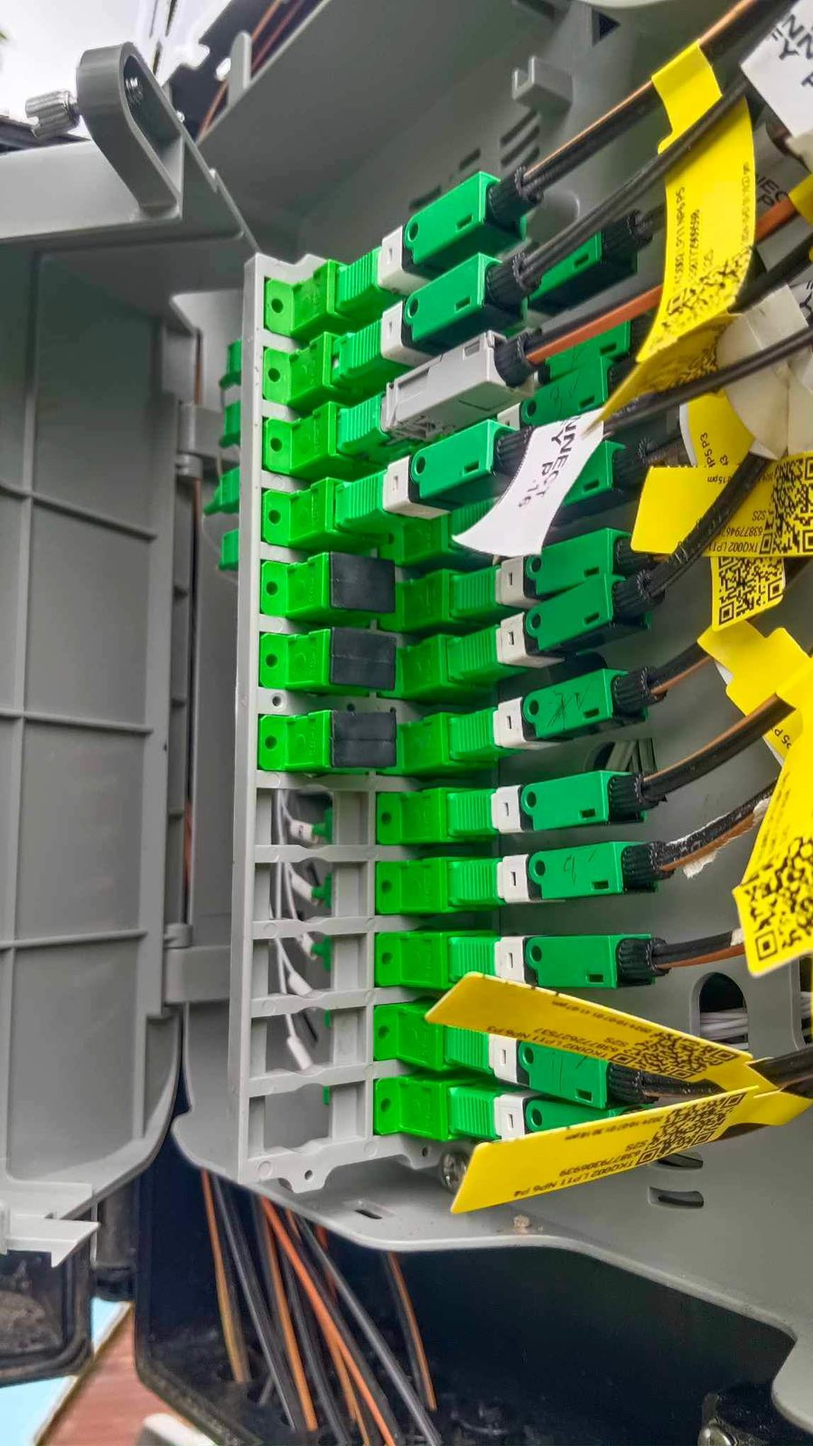no port: (248, 1084, 366, 1156), (250, 1007, 368, 1079), (251, 935, 368, 997), (255, 786, 371, 846), (253, 862, 370, 919)
occupied: (342, 143, 570, 326), (342, 228, 557, 404), (345, 307, 564, 471), (332, 392, 555, 551), (452, 559, 682, 693), (431, 207, 648, 340), (449, 428, 671, 554), (445, 348, 661, 469), (447, 657, 666, 762), (448, 1006, 655, 1115), (452, 520, 655, 623), (446, 306, 664, 395), (452, 1074, 653, 1167), (454, 838, 673, 906), (448, 769, 666, 837), (452, 929, 675, 988)
vacant: (332, 626, 397, 688), (331, 550, 396, 612), (331, 708, 395, 770)
